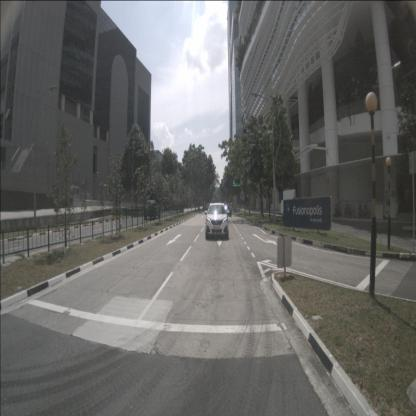human-pedestrian-adult: (266, 200, 269, 213)
vehicle-car: (206, 203, 228, 239), (144, 202, 160, 219), (216, 205, 232, 217)
